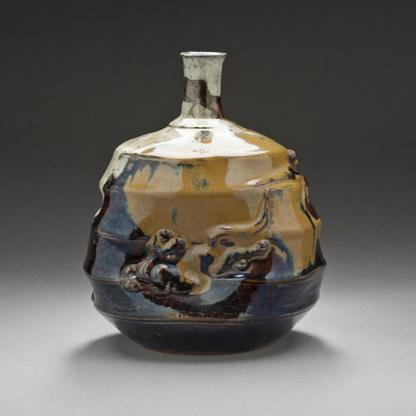vase: (81, 51, 328, 355)
